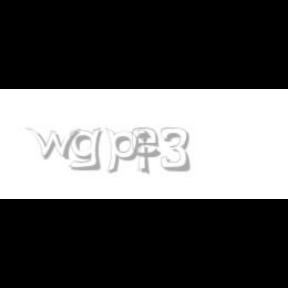3: (161, 128, 192, 172)
e: (131, 128, 164, 158)
g: (70, 128, 106, 171)
i: (137, 128, 153, 176)
p: (106, 128, 142, 174)
w: (25, 128, 84, 160)
